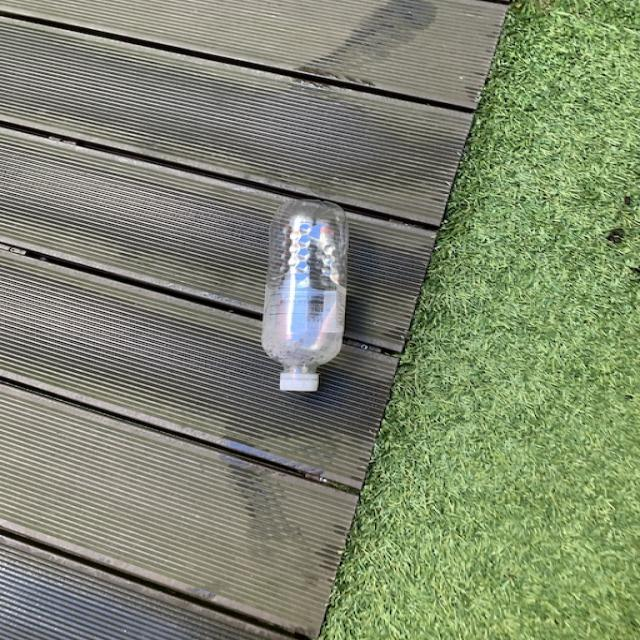Waste: (262, 201, 349, 392)
